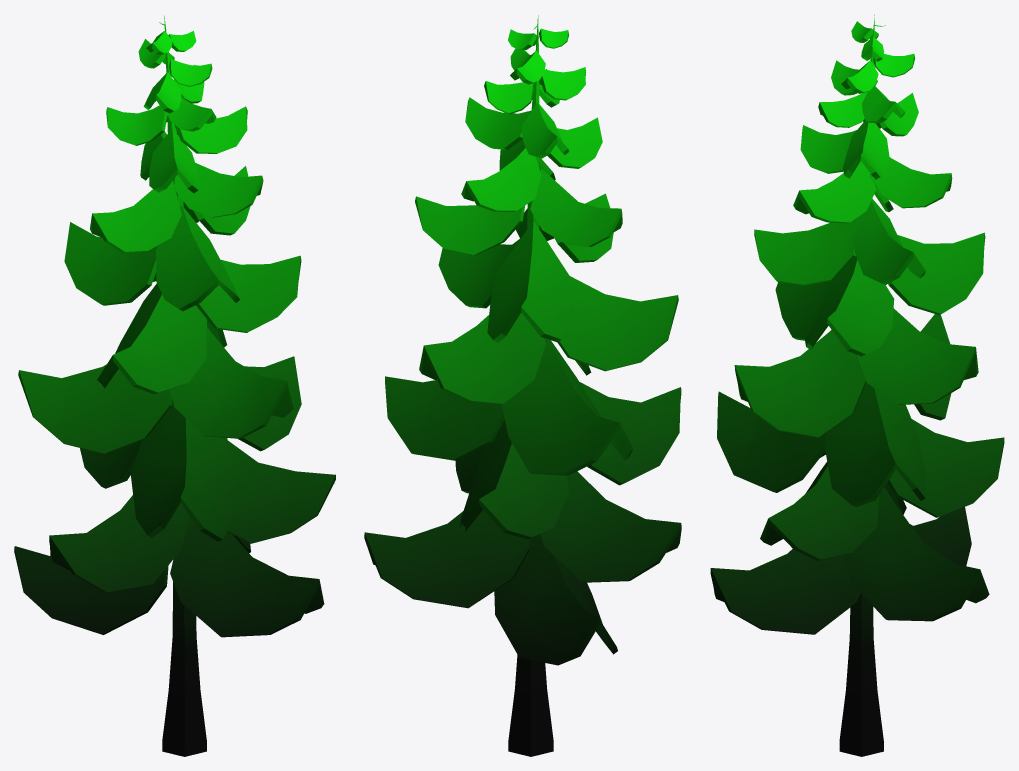
The model's file is SM_Tree_Pine_03.fbx.
3 views of the same model, side by side, from view 1: azimuth 30°, elevation 25°; view 2: azimuth 150°, elevation 25°; view 3: azimuth 270°, elevation 25° (orthographic). The views are drawn at different scales.
Visible parts, largest first — view 1: SM_Tree_Pine_03_LOD0; view 2: SM_Tree_Pine_03_LOD0; view 3: SM_Tree_Pine_03_LOD0.
Boxes of the visible parts, x1=… form: SM_Tree_Pine_03_LOD0: x1=14, y1=15, x2=335, y2=756; SM_Tree_Pine_03_LOD0: x1=364, y1=15, x2=681, y2=756; SM_Tree_Pine_03_LOD0: x1=710, y1=14, x2=1004, y2=756.
Bounding box in the file's own units: 542 × 1406 × 516.
